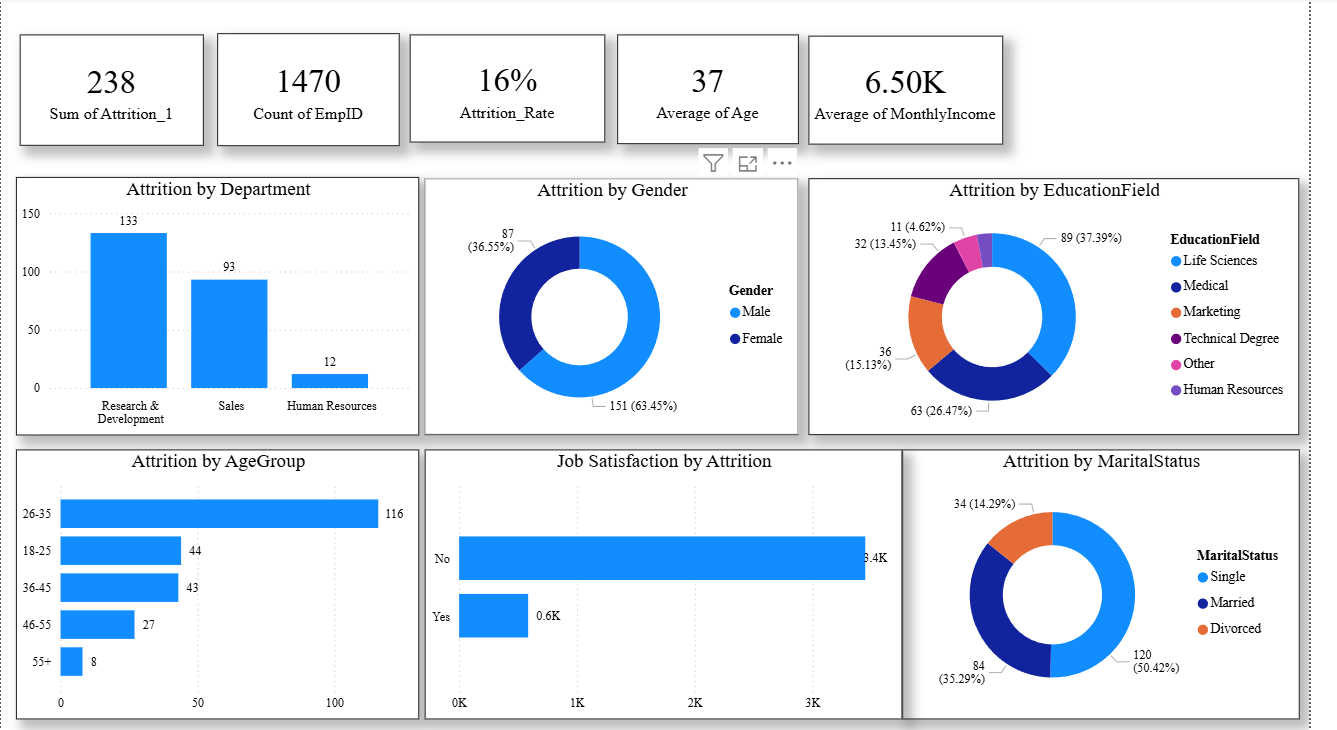

The page's visual inventory and layout, read from the dashboard file:
{"tool":"powerbi","page":{"name":"Page 1","canvas":[1280,720],"ordinal":0},"visuals":[{"type":"card","fields":{"Values":["Sum(HR_Analytics.Attrition_1)"]},"box":[18.6,37.1,180,108.6],"z":0},{"type":"card","fields":{"Values":["Count(HR_Analytics.EmpID)"]},"box":[211.4,35.7,178.6,110],"z":1000},{"type":"card","fields":{"Values":["HR_Analytics.Attrition_Rate"]},"box":[400,37.1,191.4,105.7],"z":2000},{"type":"card","fields":{"Values":["Avg(HR_Analytics.Age)"]},"box":[602.5,36.2,177.5,107.5],"z":3000},{"type":"card","fields":{"Values":["Avg(HR_Analytics.MonthlyIncome)"]},"box":[790,37.5,190,106.2],"z":4000},{"type":"columnChart","title":"Attrition by Department","fields":{"Category":["HR_Analytics.Department"],"Y":["Sum(HR_Analytics.Attrition_1)"]},"box":[14.3,175.7,394.3,252.9],"z":5000},{"type":"barChart","title":"Attrition by AgeGroup","fields":{"Category":["HR_Analytics.AgeGroup"],"Y":["Sum(HR_Analytics.Attrition_1)"]},"box":[14.3,442.9,394.3,264.3],"z":6000},{"type":"donutChart","title":"Attrition by Gender","fields":{"Category":["HR_Analytics.Gender"],"Y":["Sum(HR_Analytics.Attrition_1)"]},"box":[414.3,177.1,365.7,251.4],"z":7000},{"type":"donutChart","title":"Attrition by EducationField","fields":{"Category":["HR_Analytics.EducationField"],"Y":["Sum(HR_Analytics.Attrition_1)"]},"box":[790,177.1,480,251.4],"z":8000},{"type":"donutChart","title":"Attrition by MaritalStatus","fields":{"Category":["HR_Analytics.MaritalStatus"],"Y":["Sum(HR_Analytics.Attrition_1)"]},"box":[881.4,442.9,388.6,264.3],"z":9000},{"type":"clusteredBarChart","title":"Job Satisfaction by Attrition","fields":{"Y":["Sum(HR_Analytics.JobSatisfaction)"],"Category":["HR_Analytics.Attrition"]},"box":[414.3,442.9,467.1,264.3],"z":10000}]}

Visuals, with their boxes in screenshot pixels (x1, y1, x2, y2):
card - Sum(HR_Analytics.Attrition_1): (x1=5, y1=28, x2=192, y2=141)
card - Count(HR_Analytics.EmpID): (x1=206, y1=27, x2=391, y2=141)
card - HR_Analytics.Attrition_Rate: (x1=401, y1=28, x2=600, y2=138)
card - Avg(HR_Analytics.Age): (x1=612, y1=27, x2=796, y2=139)
card - Avg(HR_Analytics.MonthlyIncome): (x1=806, y1=28, x2=1004, y2=139)
"Attrition by Department" columnChart: (x1=1, y1=172, x2=410, y2=435)
"Attrition by AgeGroup" barChart: (x1=1, y1=449, x2=410, y2=724)
"Attrition by Gender" donutChart: (x1=416, y1=173, x2=796, y2=434)
"Attrition by EducationField" donutChart: (x1=806, y1=173, x2=1305, y2=434)
"Attrition by MaritalStatus" donutChart: (x1=901, y1=449, x2=1305, y2=724)
"Job Satisfaction by Attrition" clusteredBarChart: (x1=416, y1=449, x2=901, y2=724)
